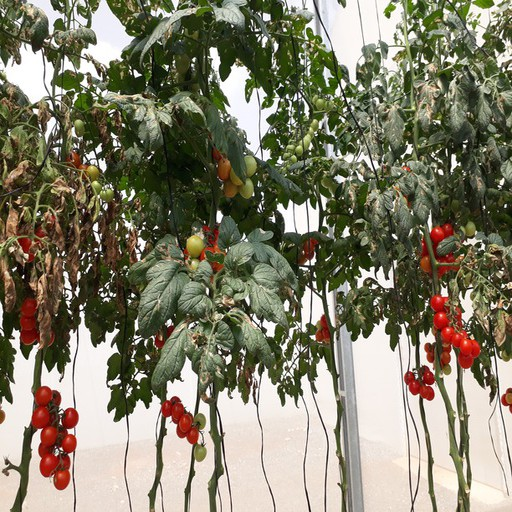green tomato bunch: (282, 117, 318, 170), (311, 92, 337, 113)
mixed tomato bunch: (67, 153, 116, 208), (214, 141, 255, 198)
red tomato bunch: (30, 385, 79, 490), (18, 215, 54, 347), (432, 295, 481, 370), (423, 224, 467, 282), (158, 396, 203, 445), (187, 227, 222, 284), (405, 365, 436, 400), (300, 231, 324, 262), (317, 314, 335, 343)
